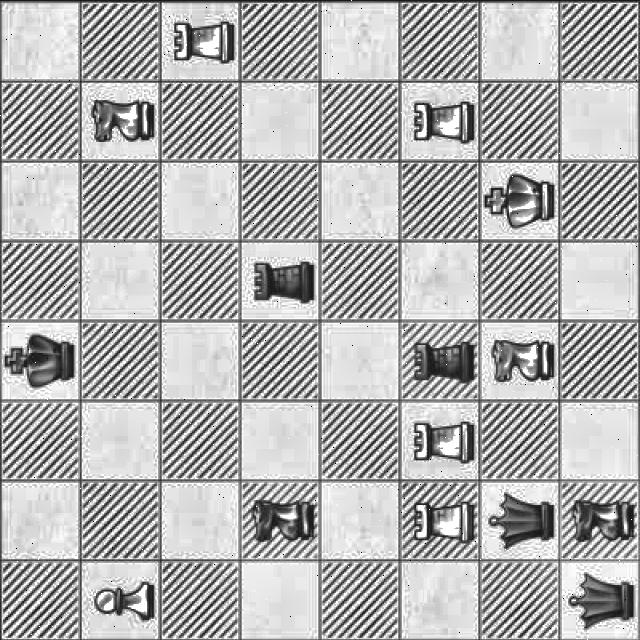Black Knight: (239, 489, 318, 555), (564, 481, 636, 542)
black king: (1, 317, 83, 399)
black queen: (563, 560, 640, 636), (483, 488, 559, 554)
black rook: (407, 328, 479, 393), (244, 252, 317, 308)
white king: (484, 161, 558, 236)
white pawn: (82, 562, 161, 629)
white rook: (402, 406, 478, 472), (408, 484, 474, 560), (409, 92, 478, 148), (165, 17, 237, 70)
whiteknight: (84, 87, 158, 159), (484, 322, 557, 391)
